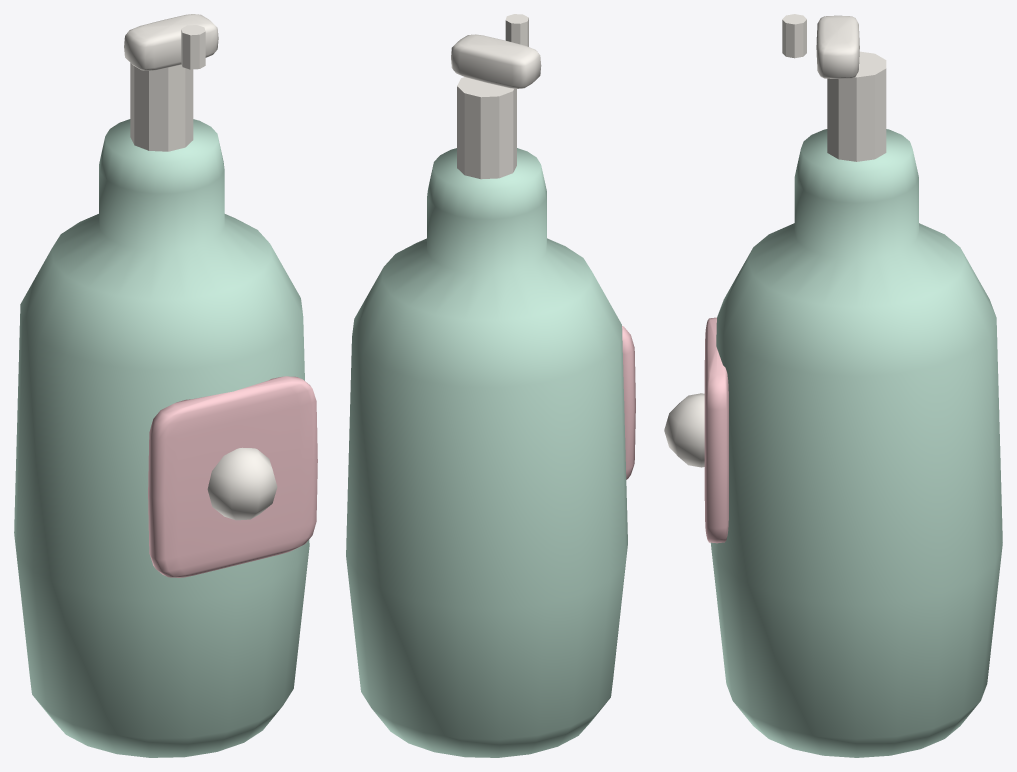
File: companion-animals-and-pet-home-shampoo-bottle-9a6f3f50__20670.glb
The picture shows the model from 3 angles, left to right: view 1: azimuth 30°, elevation 25°; view 2: azimuth 150°, elevation 25°; view 3: azimuth 270°, elevation 25°; orthographic projection. The views are drawn at different scales.
Parts seen in each view (by area): view 1: shampoo-bottle; view 2: shampoo-bottle; view 3: shampoo-bottle.
Part boxes in pixels (x1=…): shampoo-bottle: x1=14, y1=14, x2=317, y2=757; shampoo-bottle: x1=346, y1=14, x2=635, y2=757; shampoo-bottle: x1=664, y1=14, x2=1002, y2=757.
Bounding box in the file's own units: 0.094 × 0.246 × 0.109.
